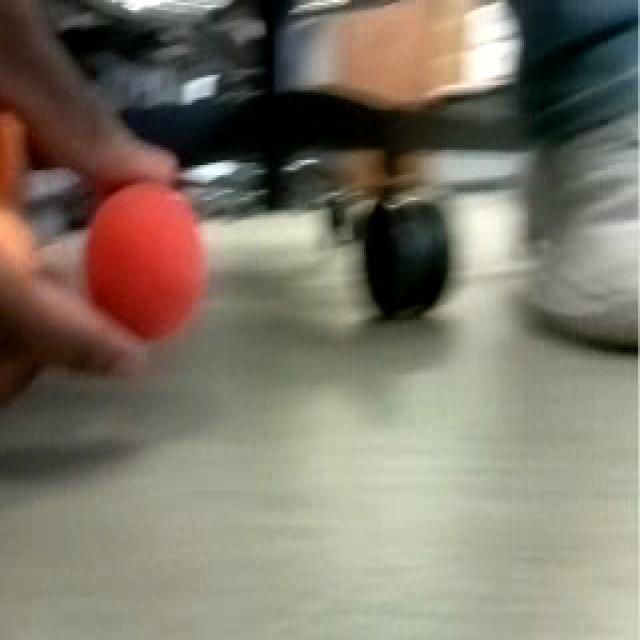oball: (82, 180, 213, 352)
